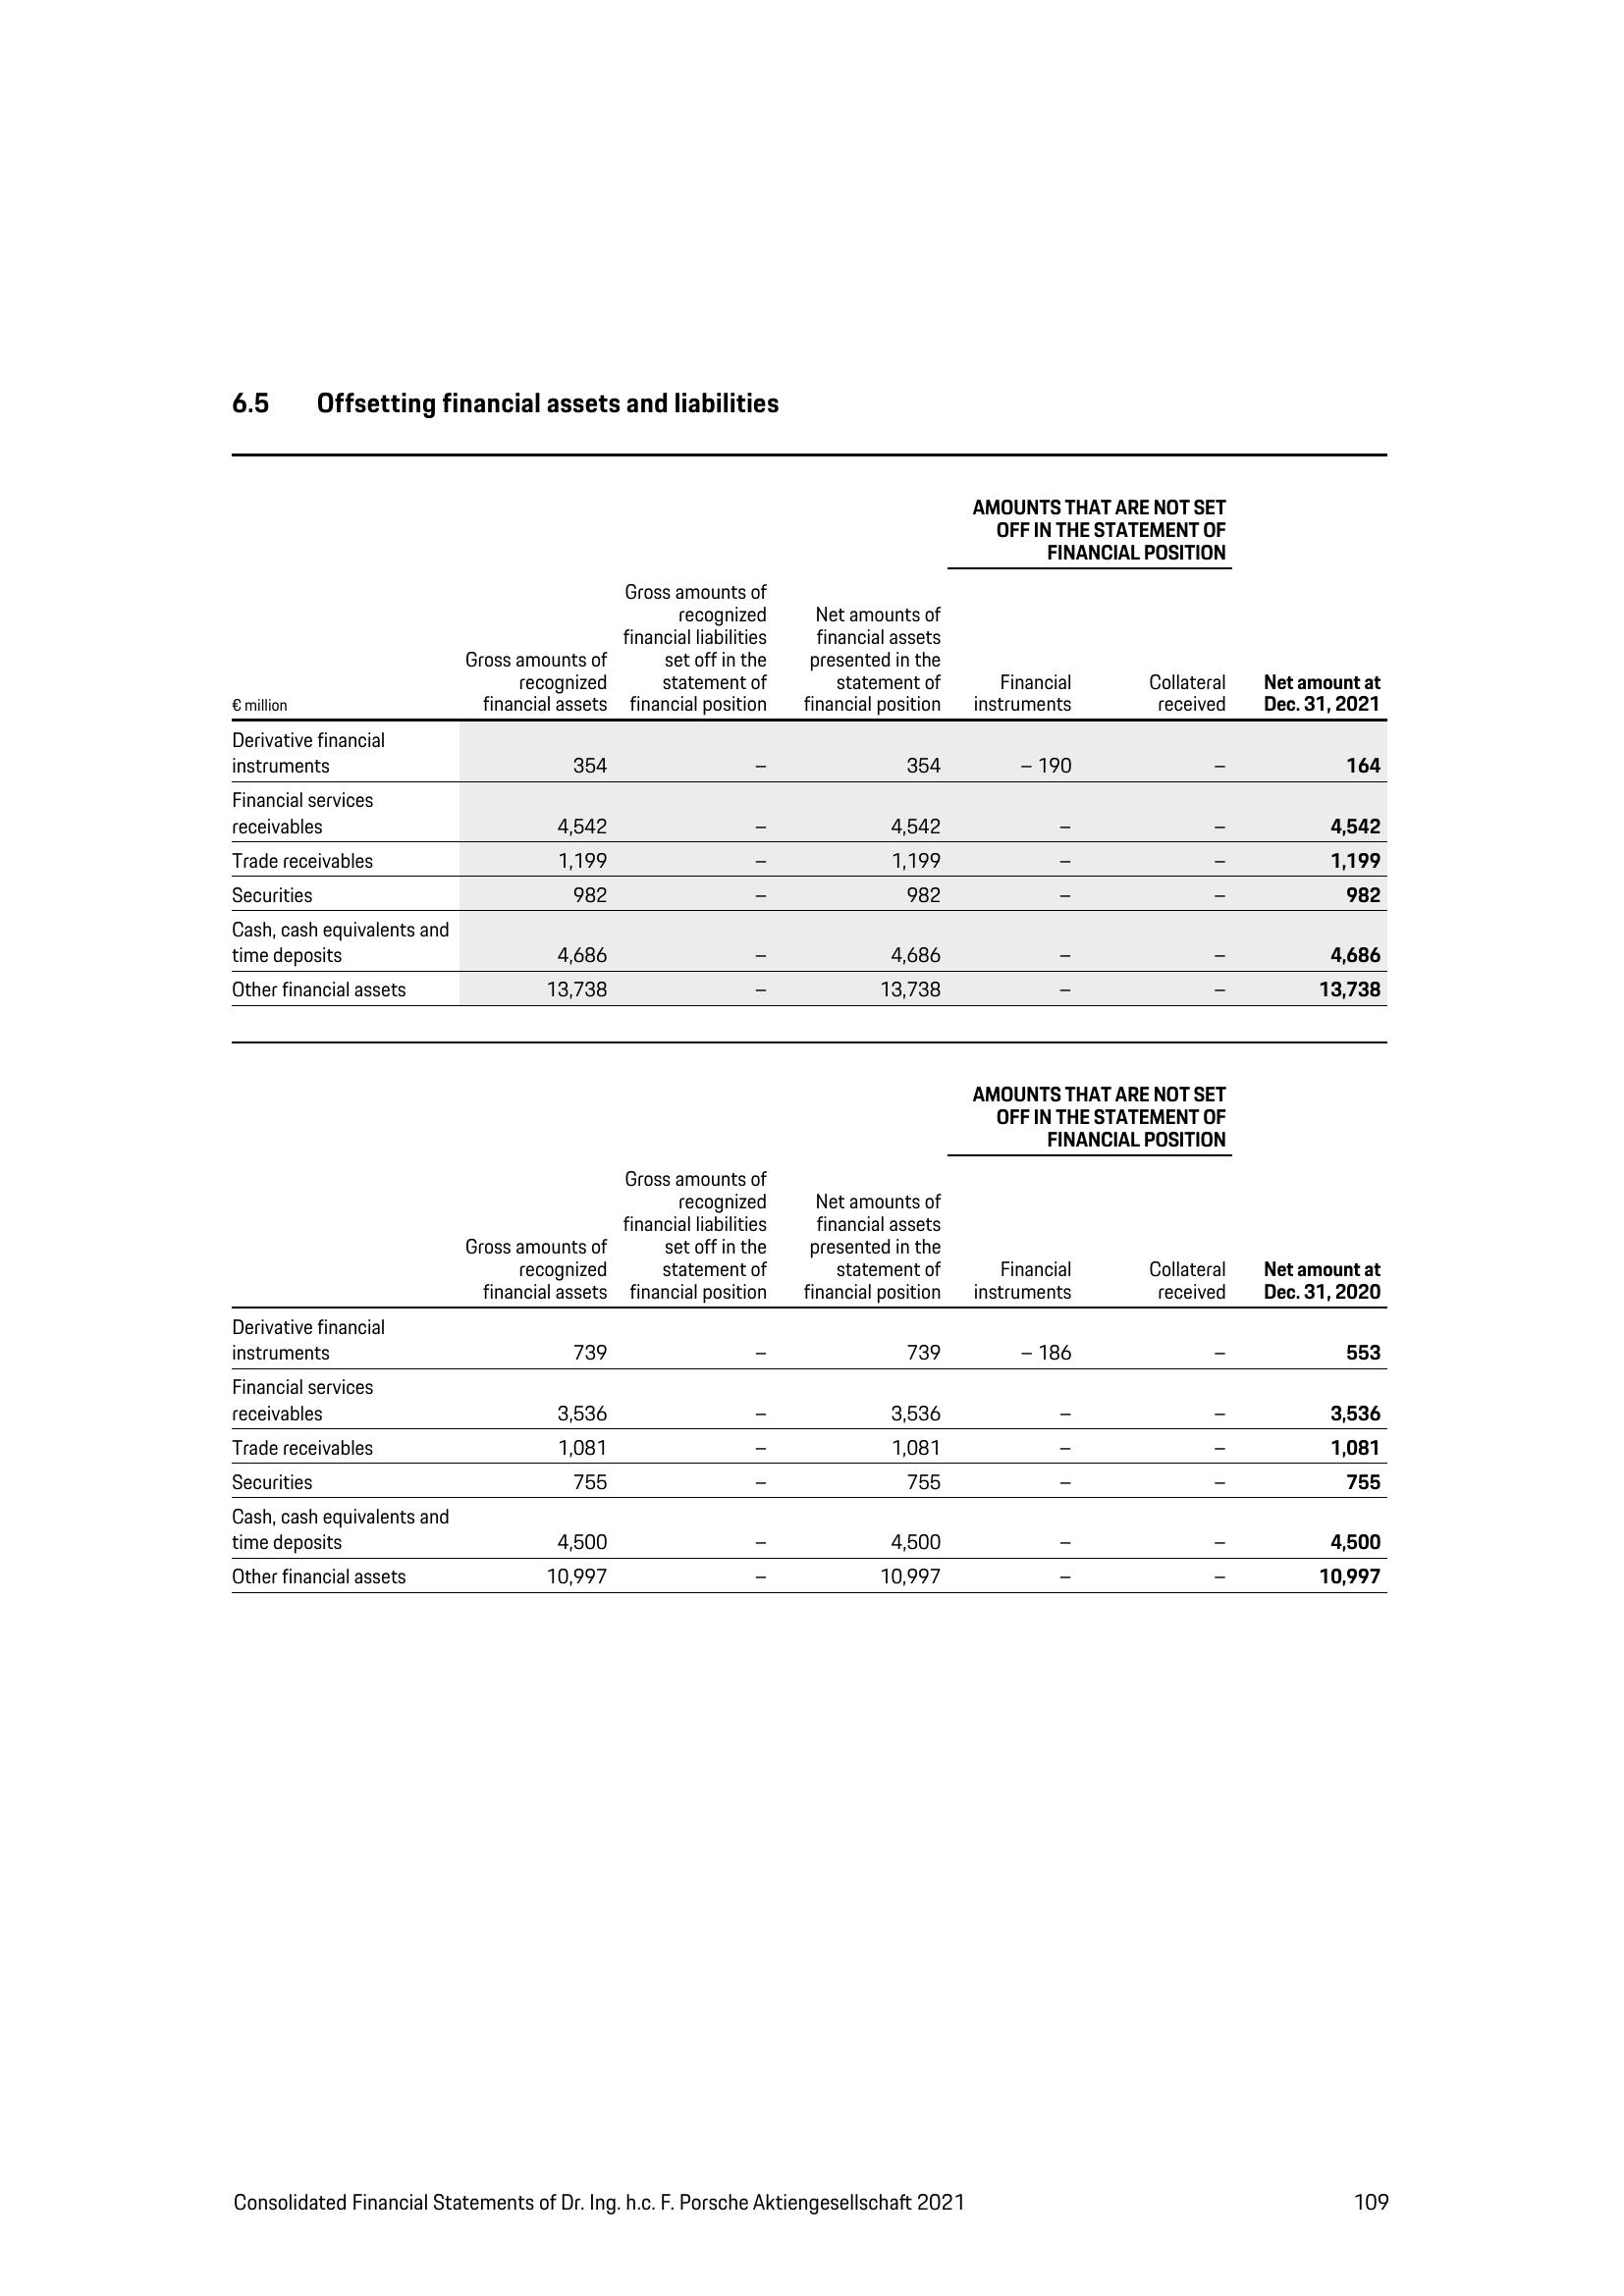Footer: (0, 2161, 1624, 2296)
Header: (0, 0, 1624, 237)
Table: (204, 1073, 1420, 1679), (216, 443, 1411, 1056)
